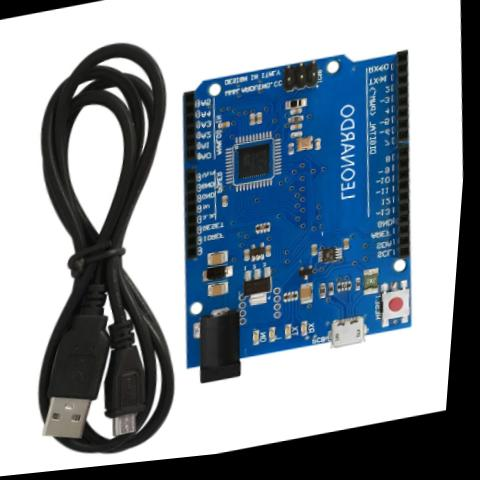Arduino-Leonardo: (155, 30, 451, 411)
